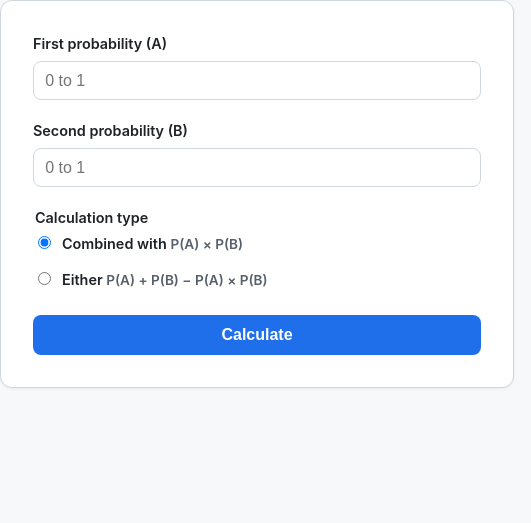
Test: CalculatorForm › clears a previous result when the calculation type changes
Type "0.5" into the number field labelled "First probability (A)".
click(257, 81); type("0.5")  # box [33, 61, 481, 100]
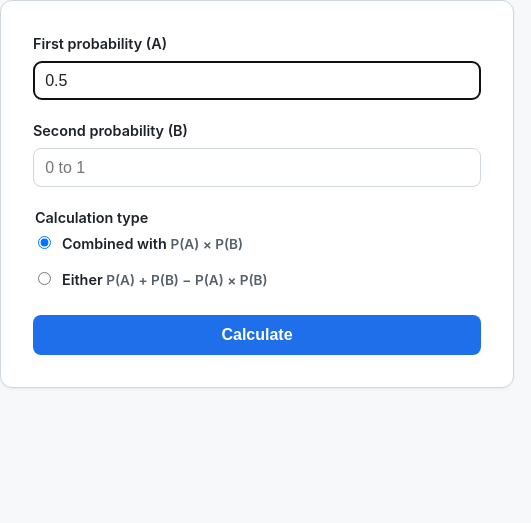
Type "0.4" into the number field labelled "Second probability (B)".
click(257, 168); type("0.4")  # box [33, 148, 481, 187]
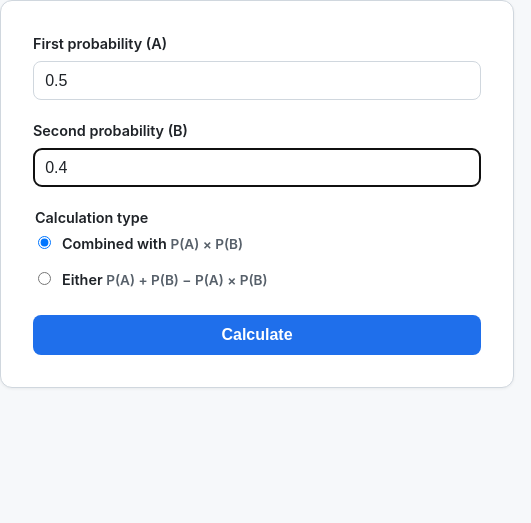
Click the button "Calculate".
click(257, 335)  # box [33, 315, 481, 355]
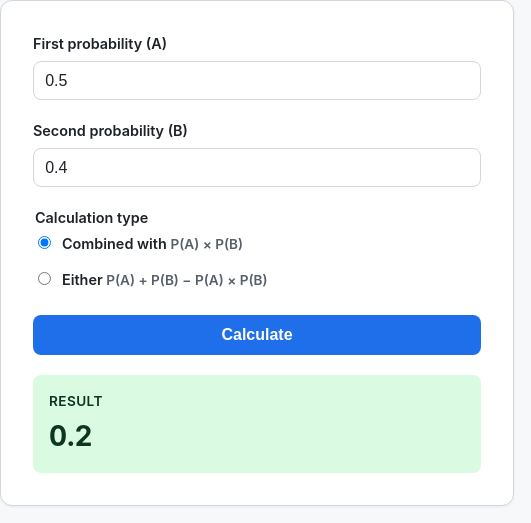
Result: the text "0.2" is shown at [49, 419, 93, 453]
Click the radio button labelled "Either P(A) + P(B) − P(A) × P(B)".
click(44, 278)  # box [38, 272, 51, 285]
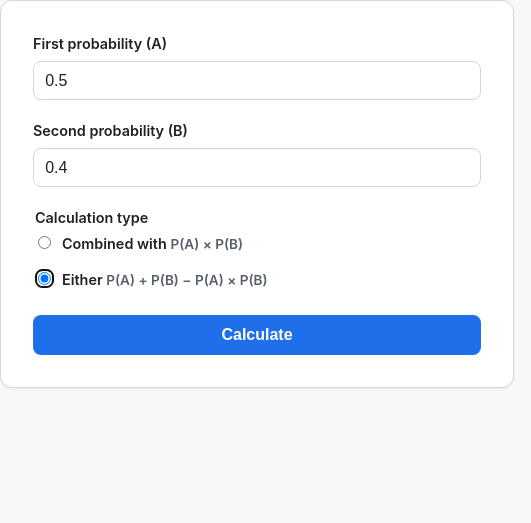
Result: the text "0.2" is gone
